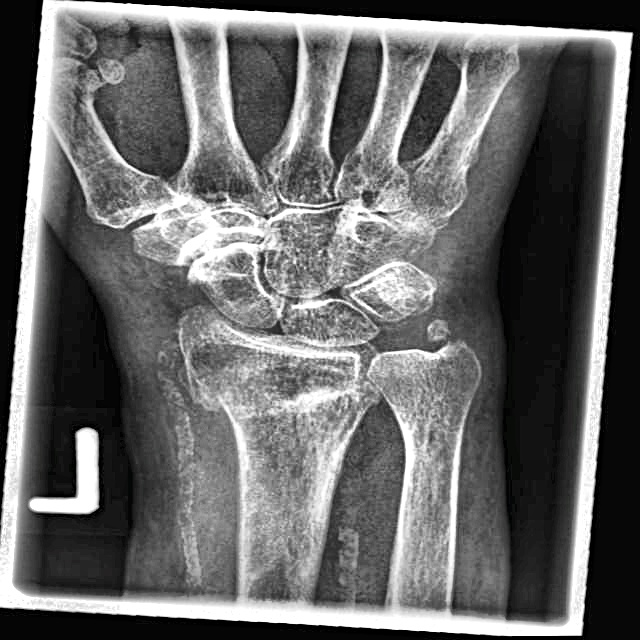Oblique Displaced: (50, 51, 125, 161)
